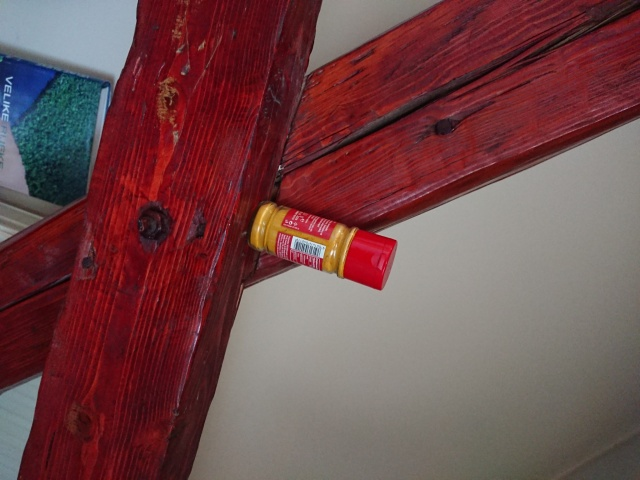Kotanyi Curry Spices Mix 70g: (244, 198, 399, 292)
